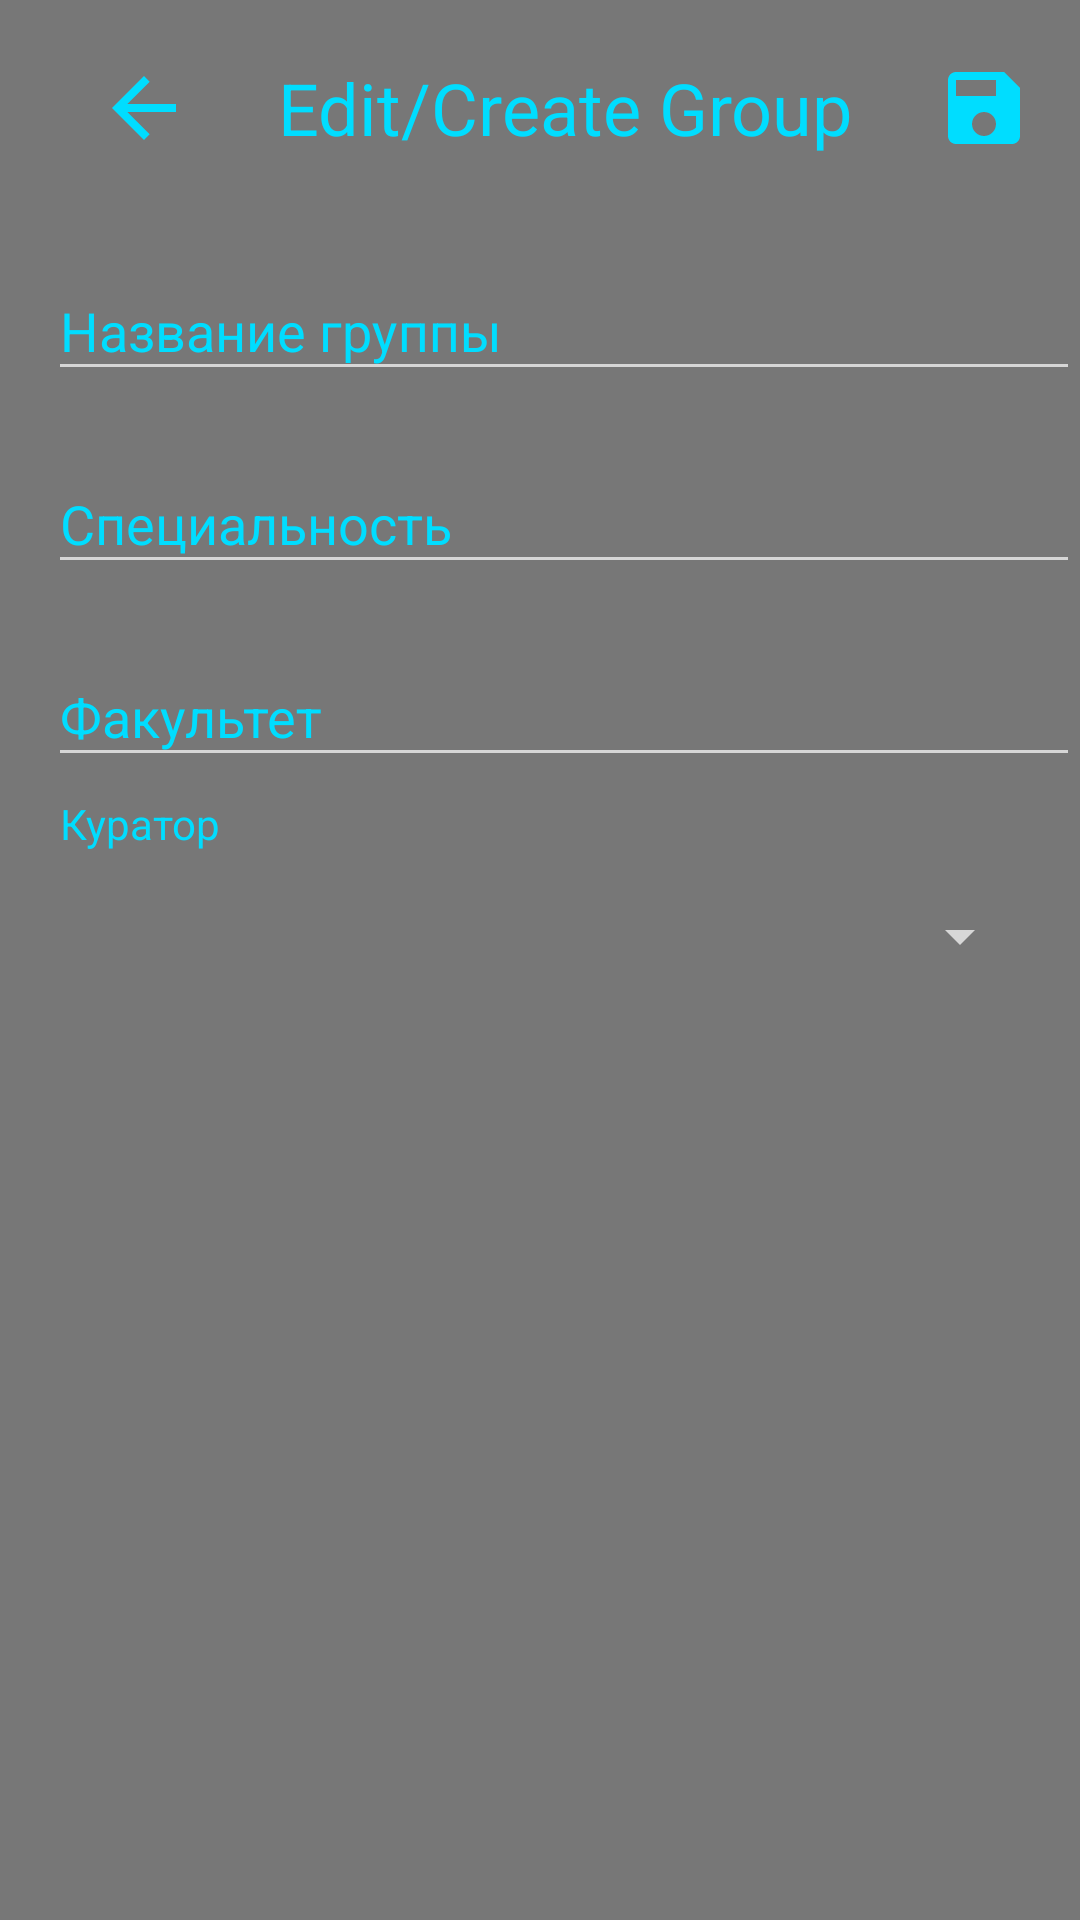

Icons on this 1080w x 1920h Android screen, each with its box as (x1, y1, x2, y2):
arrow back: (112, 76, 176, 140)
save: (948, 72, 1020, 144)
